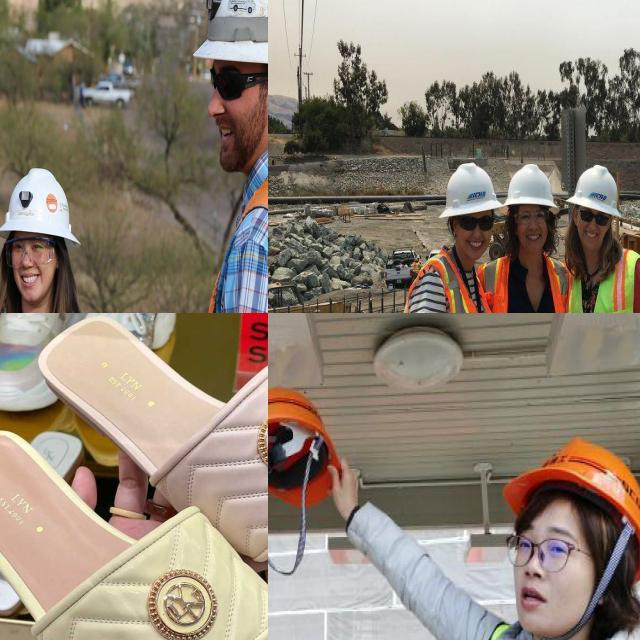Sandals: (4, 313, 268, 588), (0, 396, 268, 640)
face_nomask: (506, 508, 586, 632), (204, 61, 268, 175), (3, 237, 49, 308), (457, 210, 495, 256), (516, 202, 550, 250), (580, 203, 608, 246)
glasses: (503, 532, 575, 578), (3, 232, 56, 274), (202, 61, 251, 104), (513, 204, 552, 228), (456, 213, 496, 236), (576, 208, 612, 230)
head_helmet: (502, 438, 640, 551), (0, 163, 94, 250), (268, 385, 336, 500), (198, 0, 268, 73), (438, 163, 502, 217), (566, 164, 623, 218), (506, 164, 560, 215)
person: (446, 450, 640, 640), (178, 0, 268, 313), (0, 147, 129, 313), (406, 162, 498, 313), (565, 162, 640, 313), (494, 164, 567, 313)
vest: (412, 248, 496, 313), (480, 257, 568, 313), (567, 246, 640, 313)
